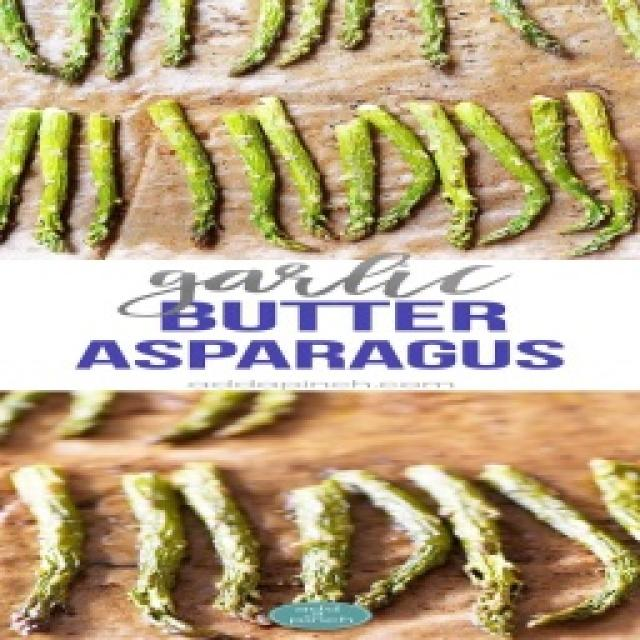Asparagus spear: (138, 101, 219, 246), (108, 472, 182, 603), (193, 475, 267, 605), (364, 474, 431, 609), (458, 484, 512, 639), (267, 94, 319, 244), (430, 106, 474, 253), (287, 492, 349, 595), (591, 102, 632, 248), (490, 118, 533, 247), (542, 95, 580, 240), (332, 99, 368, 236), (382, 113, 421, 236), (228, 112, 260, 248)
